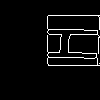H: (26, 25, 100, 63)
